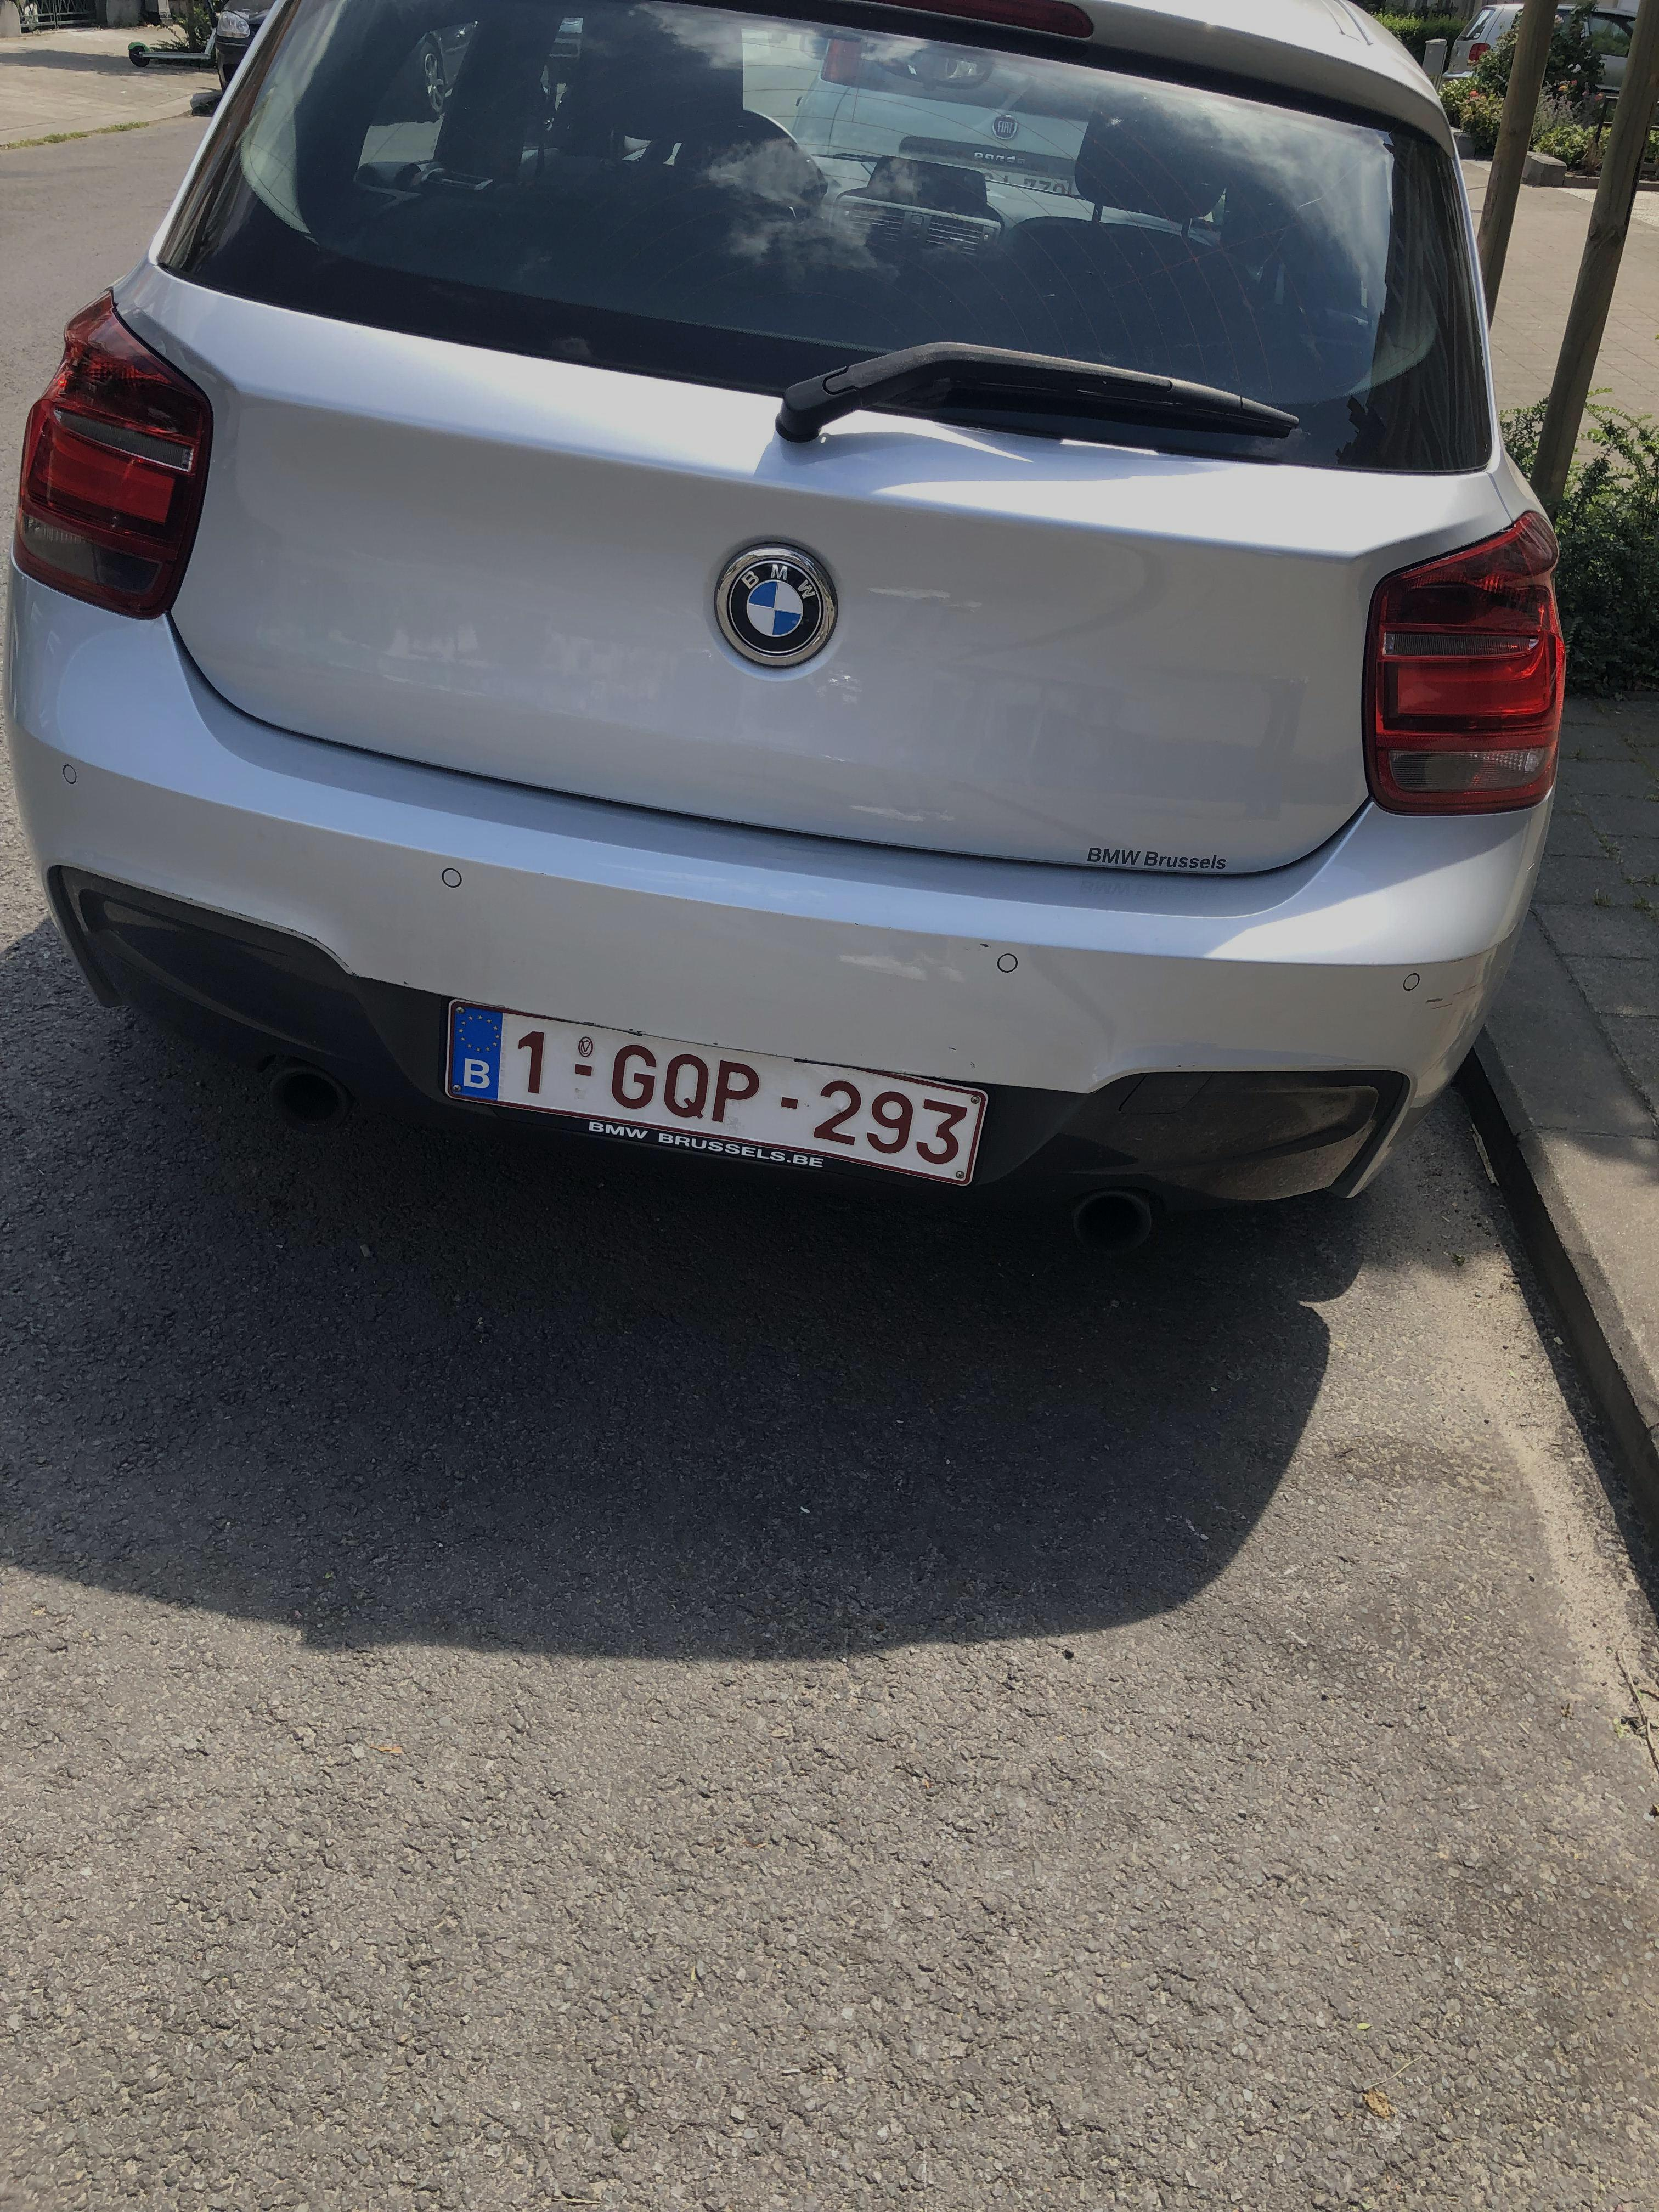plate: (424, 961, 996, 1192)
